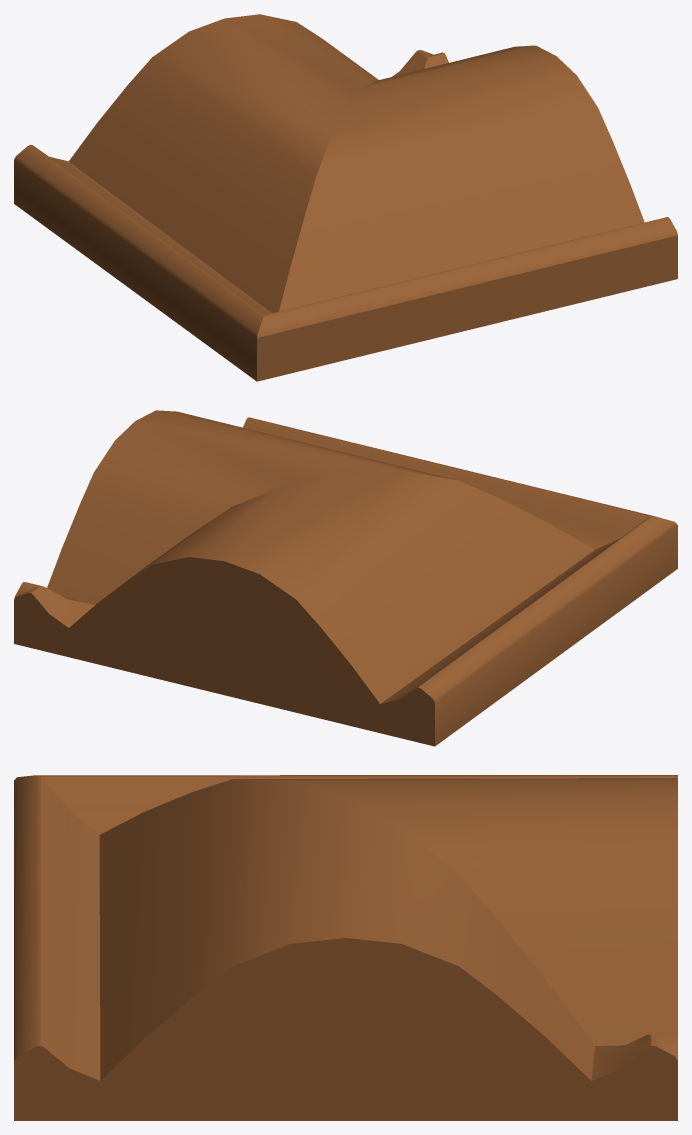
The model's file is 009_010_011_012_wall_deco_L_join.glb.
3 views of the same model, one above another, from view 1: azimuth 30°, elevation 25°; view 2: azimuth 150°, elevation 25°; view 3: azimuth 270°, elevation 25° (orthographic). The views are drawn at different scales.
Visible parts, largest first — view 1: Plane; view 2: Plane; view 3: Plane.
Part boxes in pixels (box(x1,y1,x2,y2)): Plane: box(14, 14, 677, 381); Plane: box(14, 410, 677, 746); Plane: box(14, 775, 677, 1120).
Size of the model in its own units: 0.75 by 0.2282 by 0.75.
